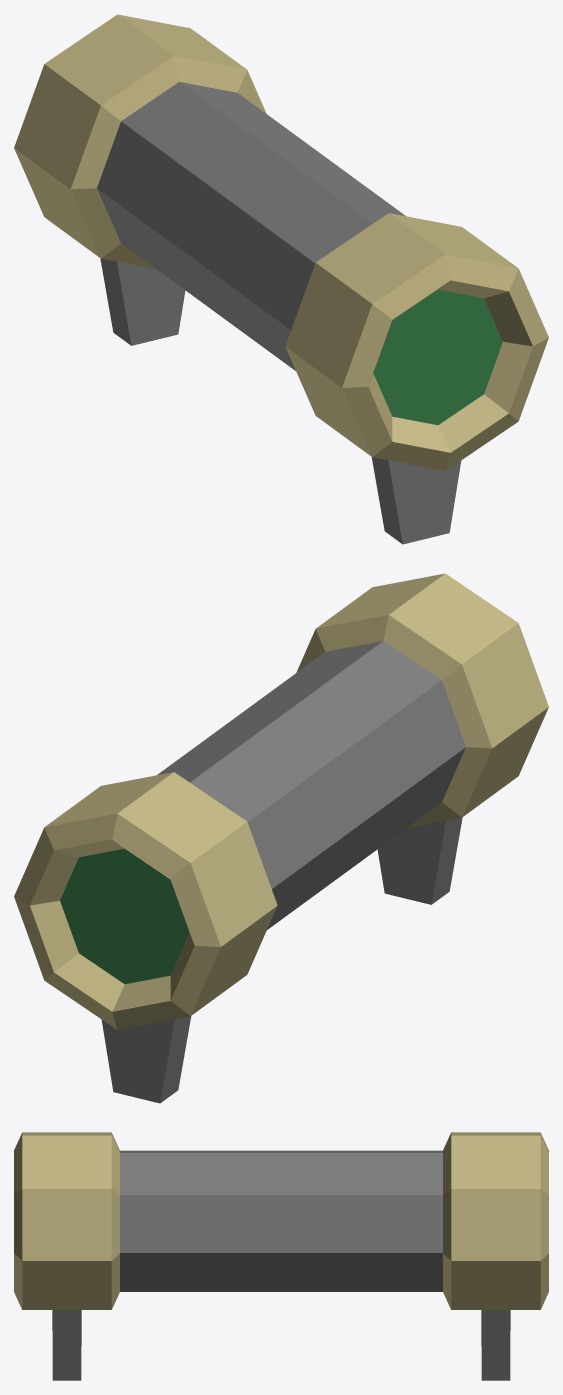
Rendered from Scope2.fbx.
The picture shows the model from 3 angles, top to bottom: view 1: azimuth 30°, elevation 25°; view 2: azimuth 150°, elevation 25°; view 3: azimuth 270°, elevation 25°; orthographic projection. The views are drawn at different scales.
Visible parts, largest first — view 1: SniperRifle_B.004; view 2: SniperRifle_B.004; view 3: SniperRifle_B.004.
Part boxes in pixels (left/top/right/bottom): SniperRifle_B.004: left=14, top=14, right=548, bottom=544; SniperRifle_B.004: left=14, top=573, right=548, bottom=1103; SniperRifle_B.004: left=14, top=1132, right=548, bottom=1380.
Bounding box in the file's own units: 64.9 × 89.41 × 184.
